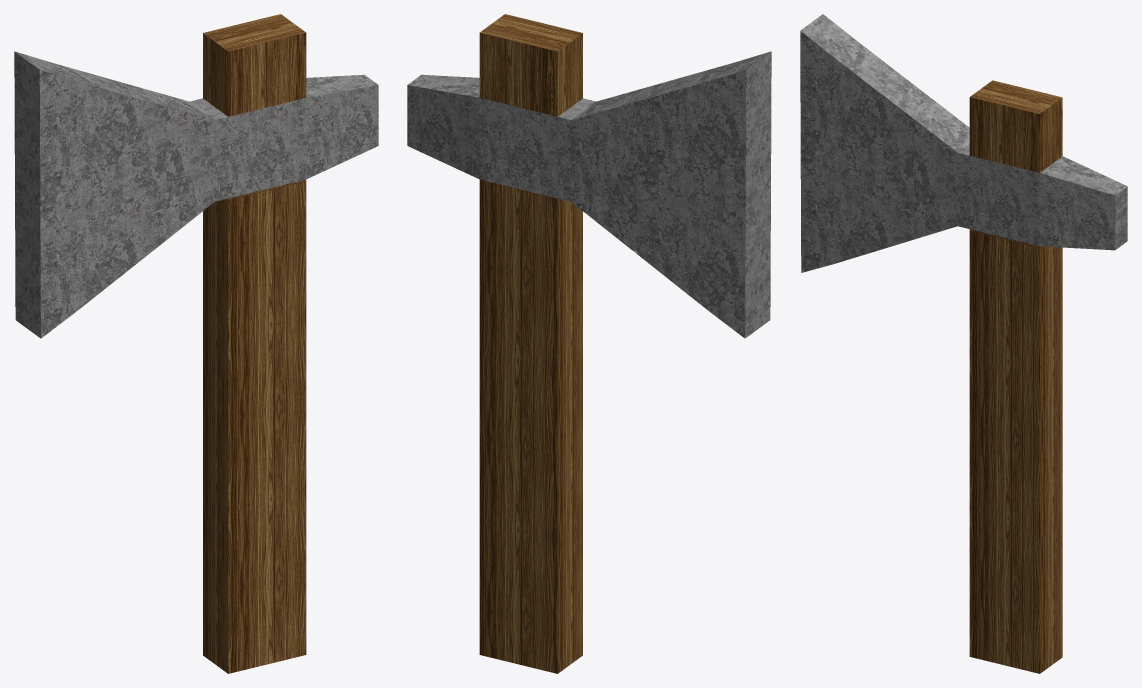
Rendered from Axe.fbx.
3 views of the same model, side by side, from view 1: azimuth 30°, elevation 25°; view 2: azimuth 150°, elevation 25°; view 3: azimuth 330°, elevation 25° (orthographic). The views are drawn at different scales.
Visible parts, largest first — view 1: WoodCutter'sAxe; view 2: WoodCutter'sAxe; view 3: WoodCutter'sAxe.
Part boxes in pixels (bbox=[...]): WoodCutter'sAxe: bbox=[14, 14, 378, 673]; WoodCutter'sAxe: bbox=[407, 14, 771, 673]; WoodCutter'sAxe: bbox=[800, 14, 1127, 673].
Size of the model in its own units: 44.16 by 79.62 by 5.63.
